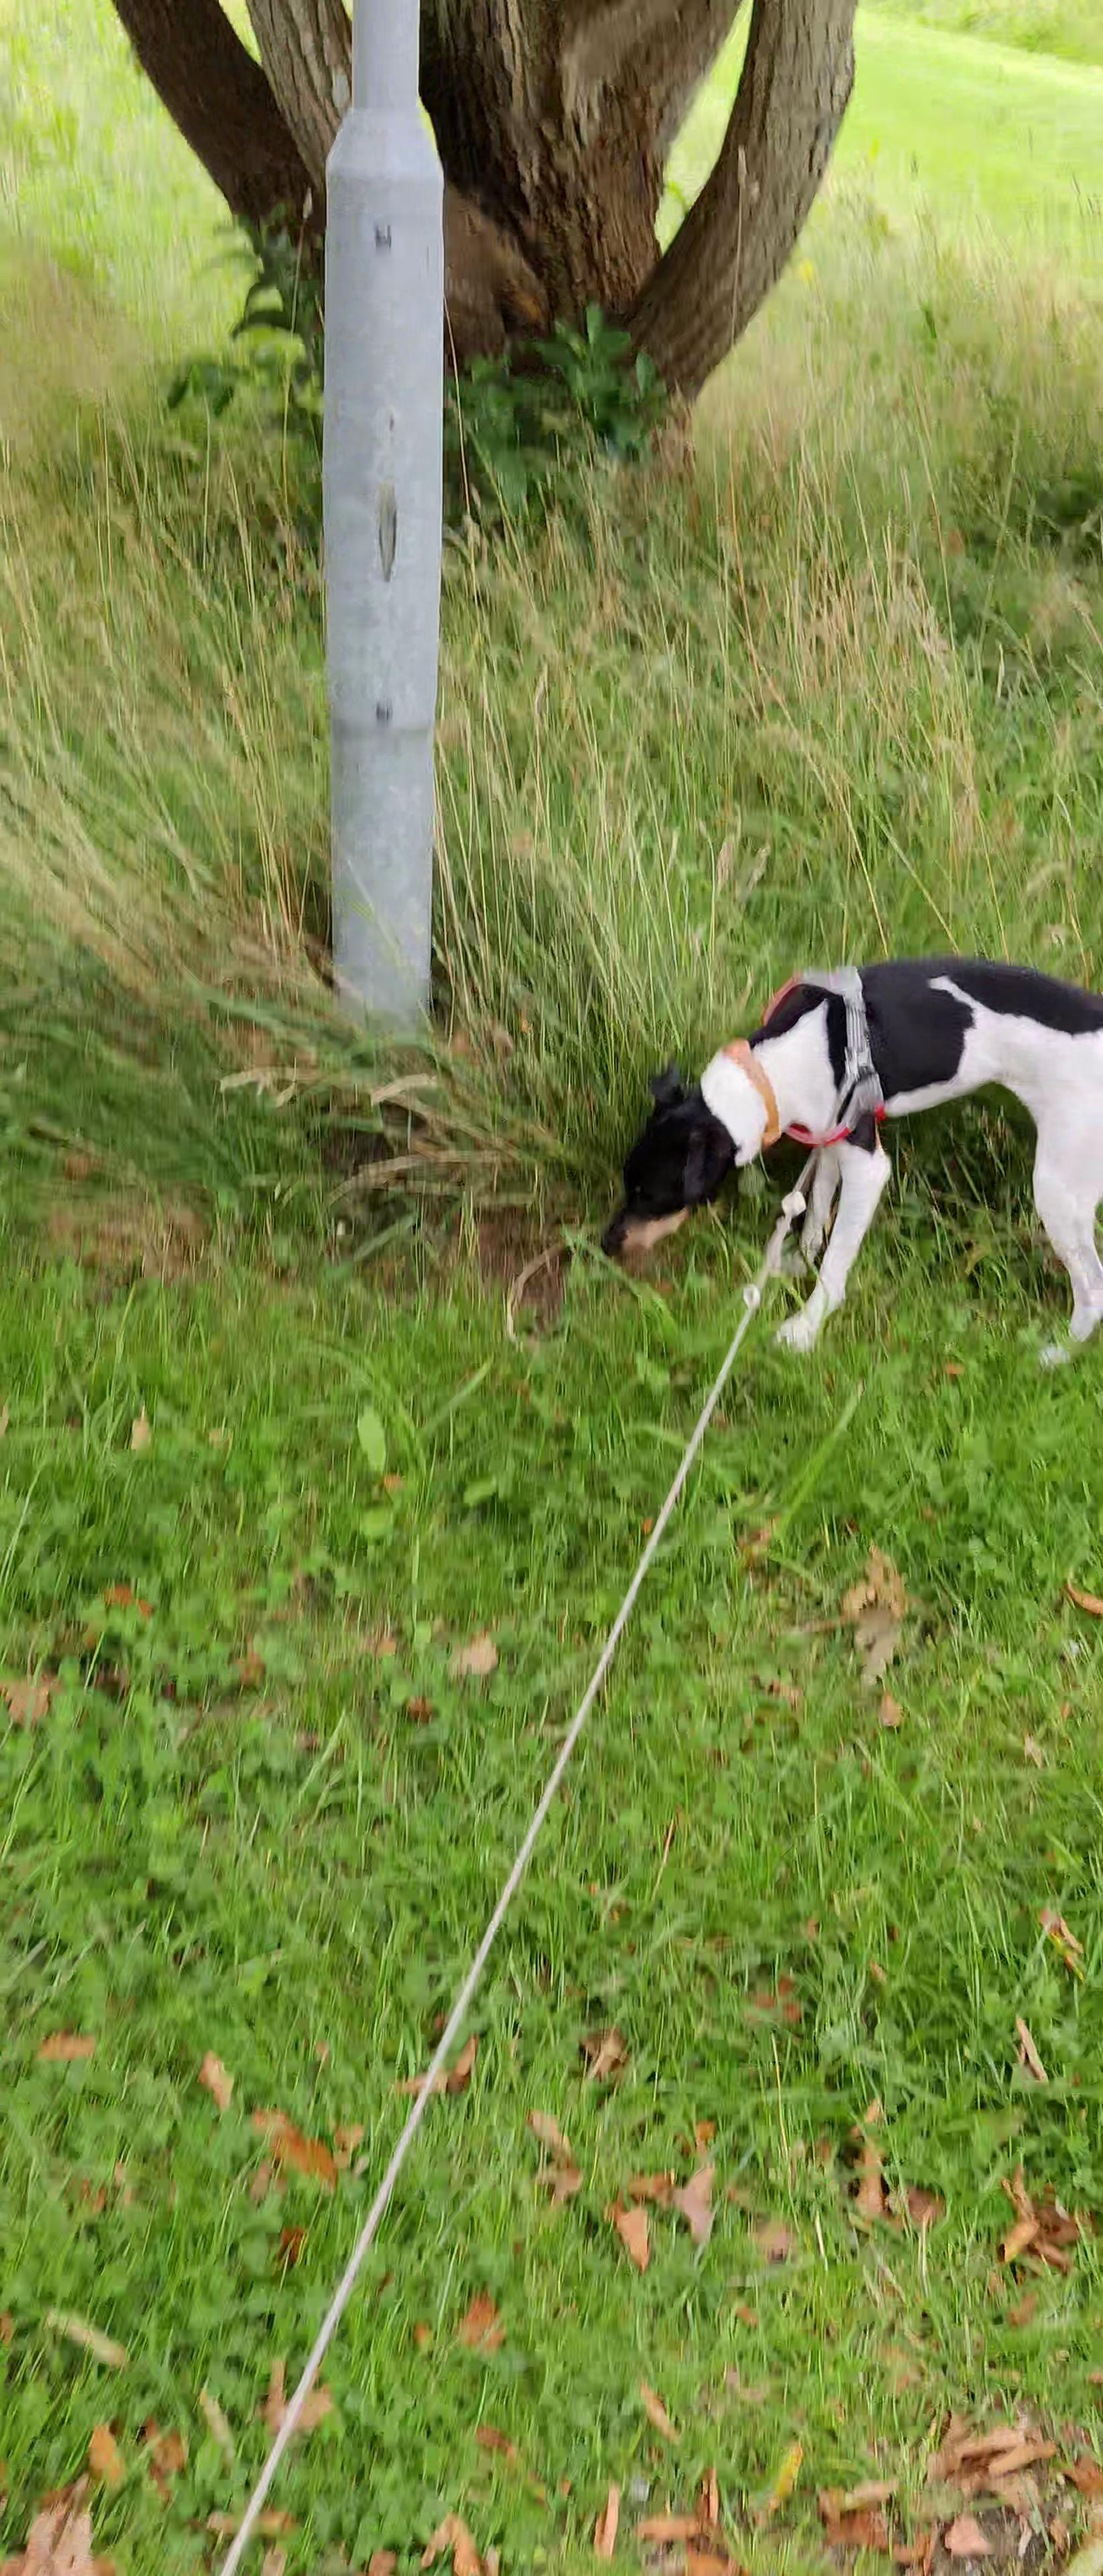Dog: (593, 945, 1103, 1370)
